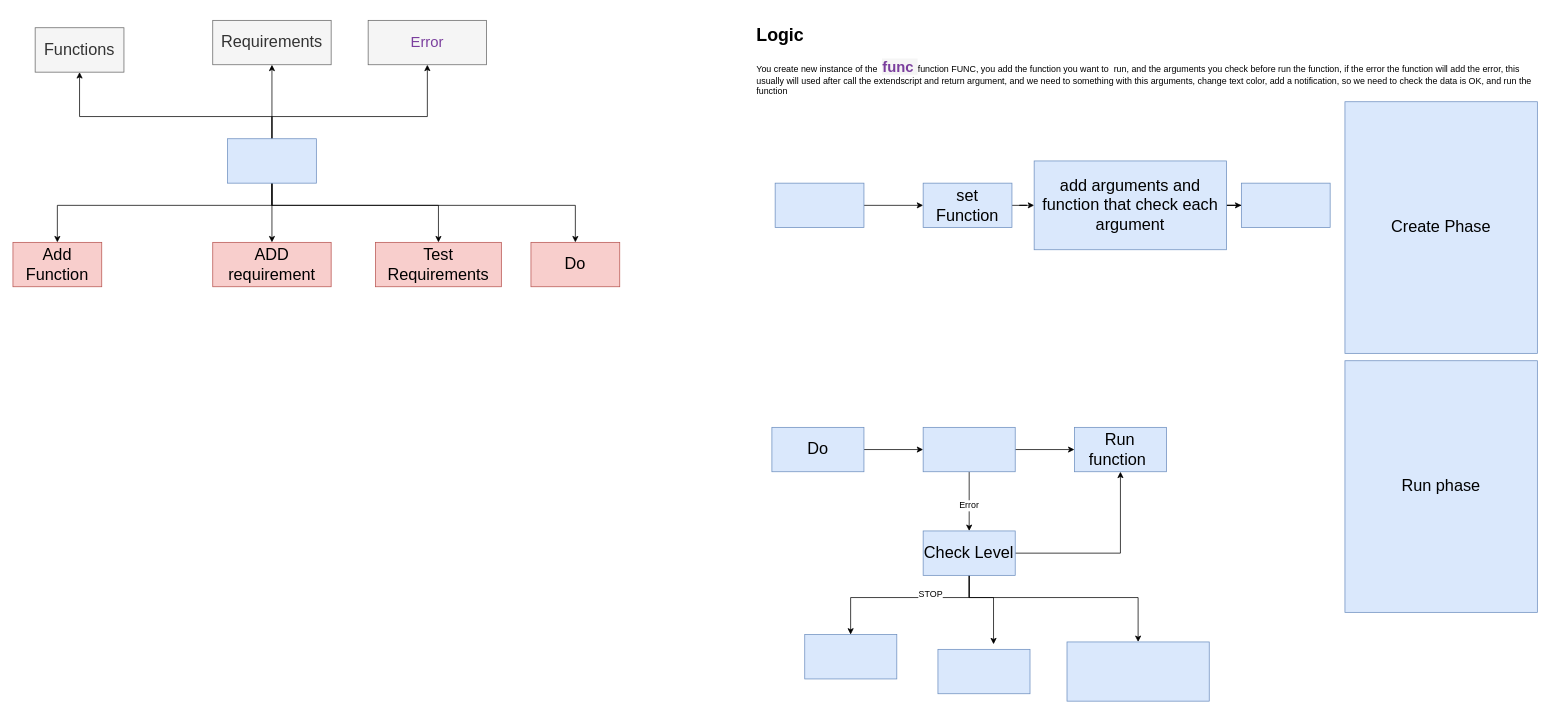
Image size: 1558x714. Some labels were removed from this diagram. The box of each missing label's shape, as (x1, y1, x2, y2) in pixels:
After: (227, 138, 316, 183)
Continue: (937, 649, 1030, 694)
Continue with Notification: (1066, 641, 1209, 701)
Create instance: (774, 182, 864, 228)
set level: (1241, 182, 1330, 228)
test arguments: (922, 427, 1015, 472)
throw error: (804, 634, 897, 679)
